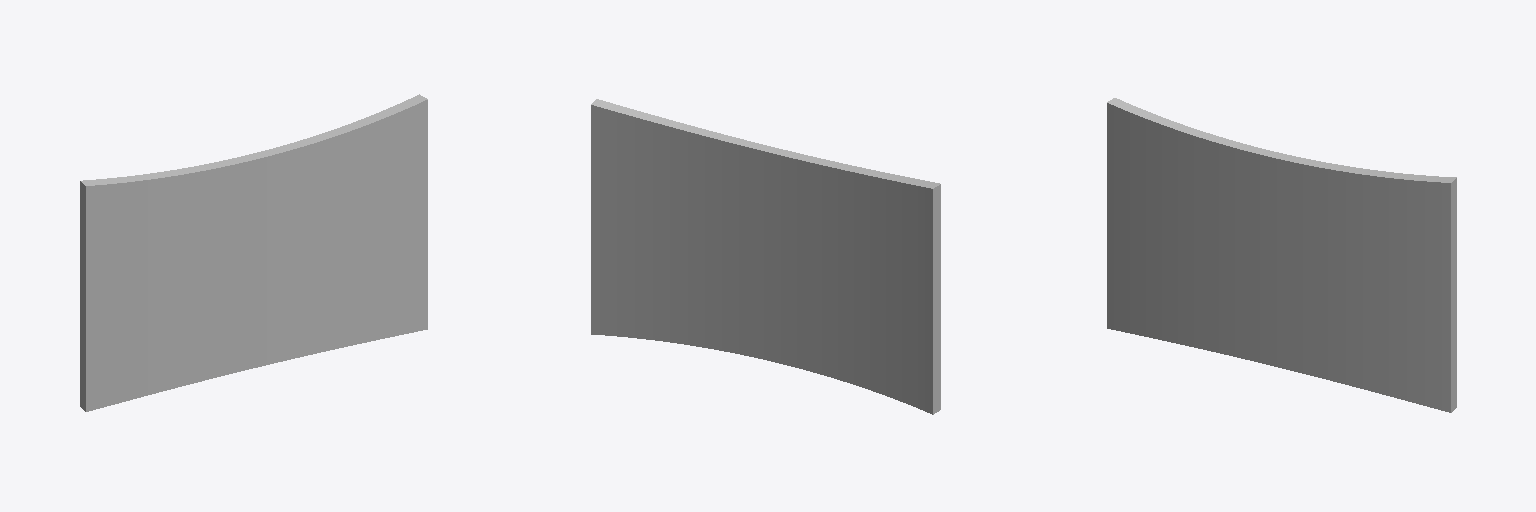
File: monitor.obj
The picture shows the model from 3 angles: view 1: azimuth 30°, elevation 25°; view 2: azimuth 150°, elevation 25°; view 3: azimuth 330°, elevation 25°; orthographic projection.
Parts seen in each view (by area): view 1: Cube.001; view 2: Cube.001; view 3: Cube.001.
Boxes of the visible parts, x1=… form: Cube.001: x1=80, y1=94, x2=427, y2=411; Cube.001: x1=591, y1=99, x2=940, y2=414; Cube.001: x1=1107, y1=98, x2=1456, y2=412.
Bounding box in the file's own units: 5.8 × 3.71 × 0.412.